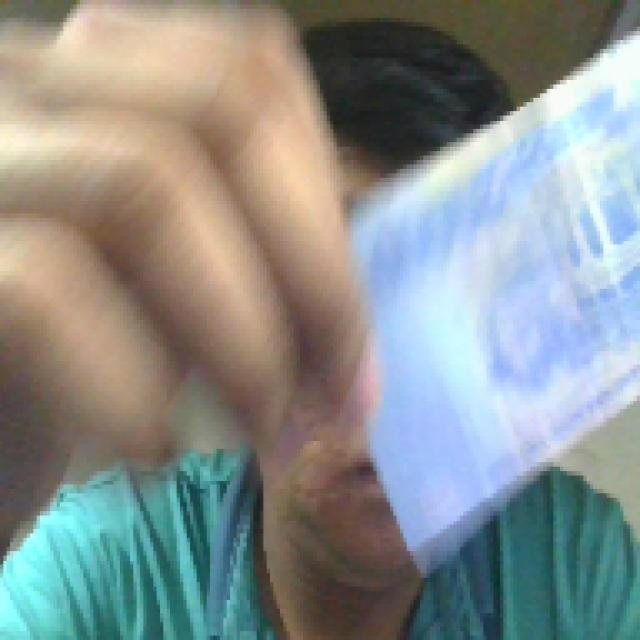20 000 VND: (340, 2, 636, 588)
